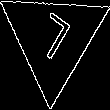L_SW: (29, 9, 77, 68)
